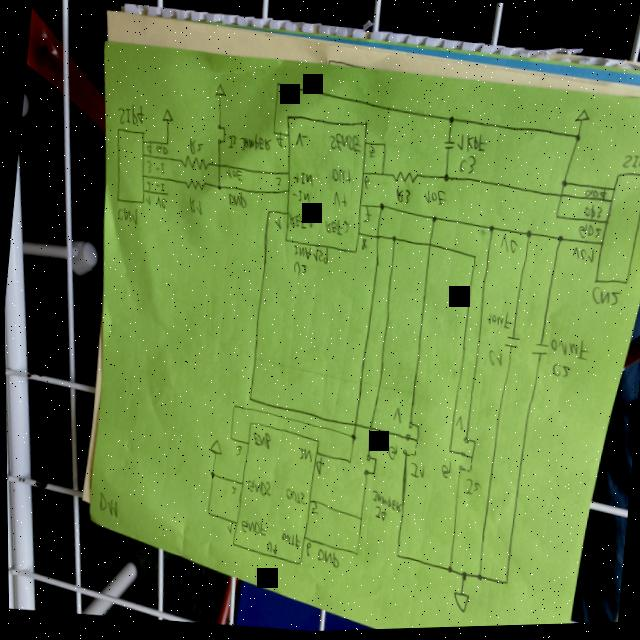capacitor: (529, 344, 548, 360), (441, 139, 455, 157), (502, 338, 519, 352)
crossover: (425, 243, 432, 252), (366, 426, 373, 435), (373, 235, 380, 244), (350, 422, 357, 431), (215, 162, 221, 172), (557, 196, 564, 203)
ground: (207, 439, 222, 457), (573, 112, 590, 127), (212, 83, 226, 101), (160, 109, 173, 125)
junction: (376, 204, 385, 215), (446, 117, 455, 128), (439, 176, 450, 185), (458, 573, 466, 584), (207, 470, 215, 481), (554, 238, 563, 247), (474, 574, 481, 585), (572, 136, 580, 145), (500, 582, 508, 591), (559, 182, 567, 191), (348, 434, 355, 444), (389, 236, 396, 246), (430, 217, 437, 226), (487, 227, 494, 236), (264, 209, 271, 218), (274, 81, 281, 90), (203, 511, 210, 520), (552, 216, 559, 225), (245, 396, 252, 405), (380, 143, 387, 152), (524, 233, 531, 242), (444, 567, 450, 577), (378, 173, 385, 181), (215, 185, 221, 193), (392, 554, 398, 562), (229, 404, 235, 412), (471, 256, 477, 264), (445, 450, 451, 457), (345, 460, 351, 467), (356, 517, 361, 524), (352, 553, 357, 559), (164, 143, 168, 147), (228, 438, 230, 442), (272, 132, 274, 136)
resistor: (179, 156, 209, 174), (390, 172, 419, 189), (183, 178, 206, 194)
source: (449, 593, 467, 618)
switch: (399, 422, 420, 460), (455, 440, 475, 476), (360, 456, 375, 479), (214, 125, 226, 147)
terminal: (591, 173, 640, 291), (108, 128, 150, 208)
text: (545, 336, 589, 366), (452, 131, 488, 159), (290, 245, 329, 268), (367, 491, 402, 516), (326, 133, 362, 157), (237, 131, 272, 155), (586, 288, 620, 312), (115, 102, 145, 128), (620, 144, 640, 178), (484, 312, 513, 334), (313, 549, 338, 572), (322, 219, 350, 239), (238, 519, 266, 539), (287, 211, 313, 232), (113, 206, 140, 226), (243, 479, 270, 498), (225, 190, 249, 211), (282, 489, 305, 508), (329, 168, 353, 186), (498, 237, 518, 258), (184, 197, 204, 218), (290, 172, 313, 190), (421, 192, 445, 209), (250, 432, 270, 452), (568, 247, 588, 266), (549, 365, 570, 383), (484, 351, 502, 372), (457, 158, 475, 179), (223, 167, 244, 184), (575, 225, 593, 244), (462, 480, 480, 499), (278, 534, 299, 550), (290, 191, 310, 207), (393, 189, 410, 207), (331, 192, 348, 210), (407, 464, 423, 482), (187, 139, 203, 157), (371, 507, 387, 525), (291, 262, 307, 278), (581, 207, 596, 224), (312, 457, 324, 478), (360, 205, 372, 226), (384, 444, 396, 464), (296, 449, 311, 465), (294, 133, 308, 150), (225, 133, 237, 152), (582, 190, 599, 203), (438, 464, 450, 482), (153, 196, 167, 211), (390, 409, 401, 428), (301, 542, 312, 559), (307, 501, 318, 518), (153, 161, 165, 176), (597, 189, 608, 205), (357, 238, 368, 254), (264, 542, 275, 558), (452, 417, 462, 434), (361, 176, 371, 193), (153, 181, 166, 194), (366, 147, 376, 163), (585, 250, 594, 267), (154, 145, 167, 156), (274, 137, 284, 150), (144, 161, 152, 176), (143, 194, 152, 207), (592, 230, 601, 243), (145, 140, 152, 156), (225, 518, 231, 536), (595, 209, 602, 224), (274, 218, 281, 233), (273, 177, 282, 188), (233, 446, 240, 459), (144, 181, 152, 192), (228, 487, 235, 497)
